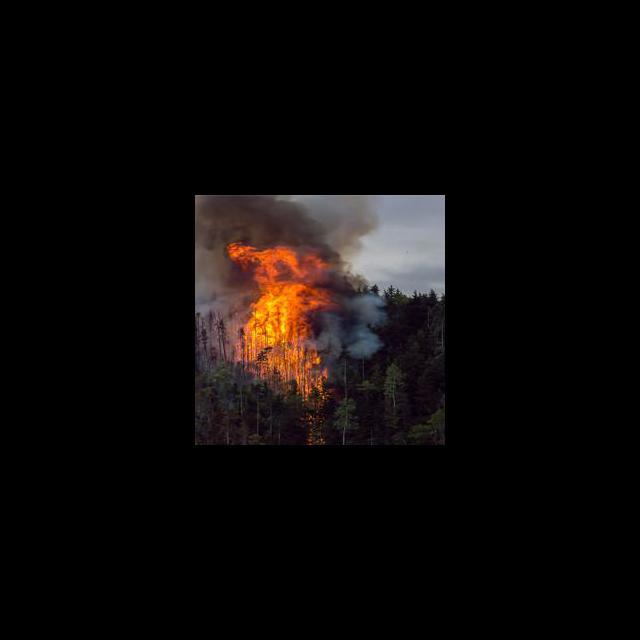Fire: (228, 241, 334, 389)
Smoke: (196, 195, 371, 241), (334, 290, 388, 356), (196, 243, 226, 358)
